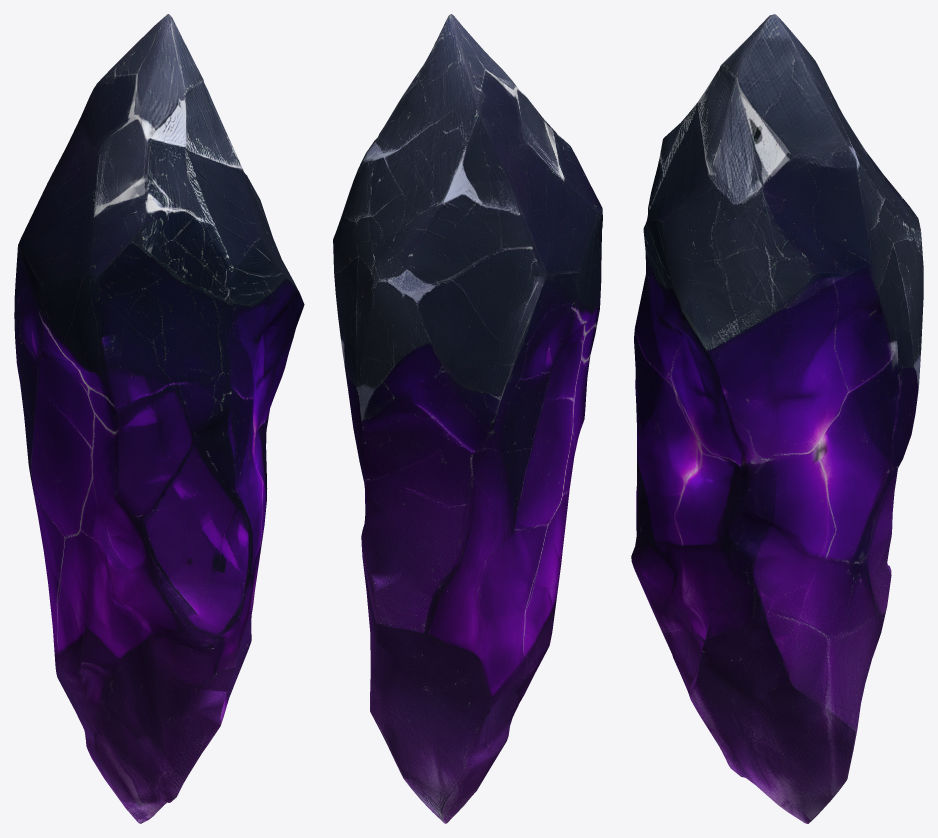
The model's file is prop-void-shard.glb.
3 views of the same model, side by side, from view 1: azimuth 30°, elevation 25°; view 2: azimuth 150°, elevation 25°; view 3: azimuth 270°, elevation 25° (orthographic). The views are drawn at different scales.
Bounding box in the file's own units: 0.5708 × 1.91 × 0.6198.
1 material, 1 textured.
